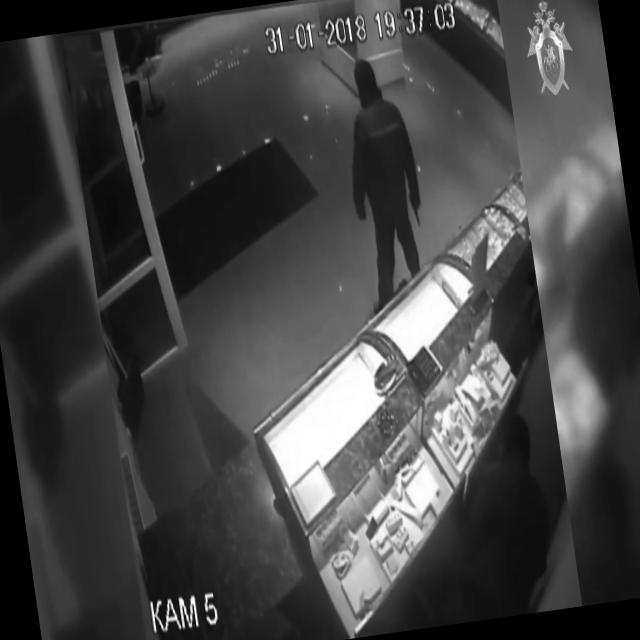gun: (409, 192, 424, 226)
person with a gun: (334, 52, 436, 314)
